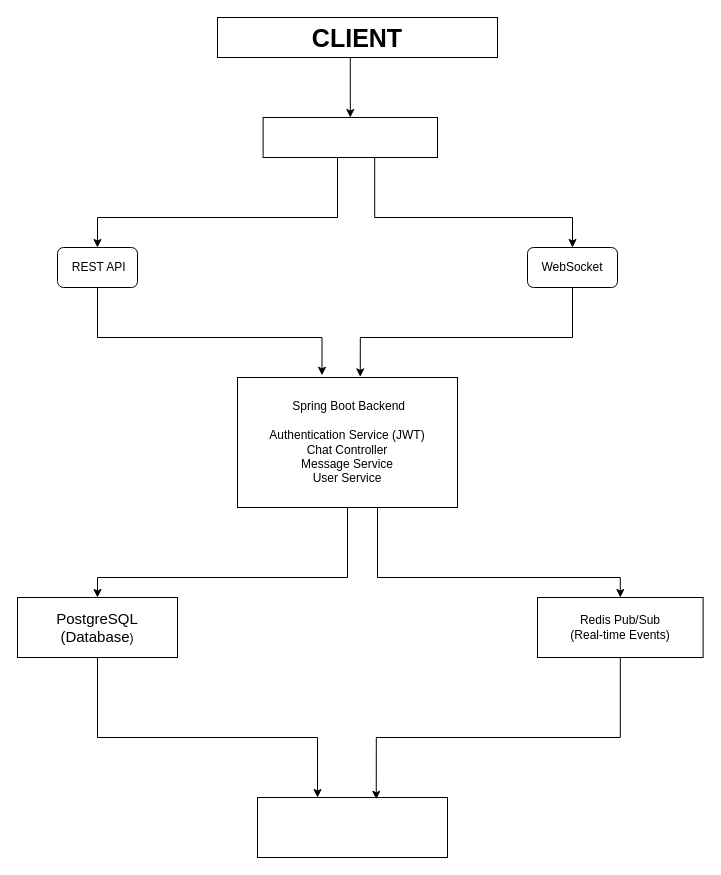
Some shapes in this 721 by 875 pixel diagram are drawn without their labels. The shapes that lost their labels are listed below. From the top down, each one's box as (x1, y1, x2, y2) in pixels, then its label:
(262, 116, 438, 158): React / Web Client
(256, 796, 448, 858): Docker Container
